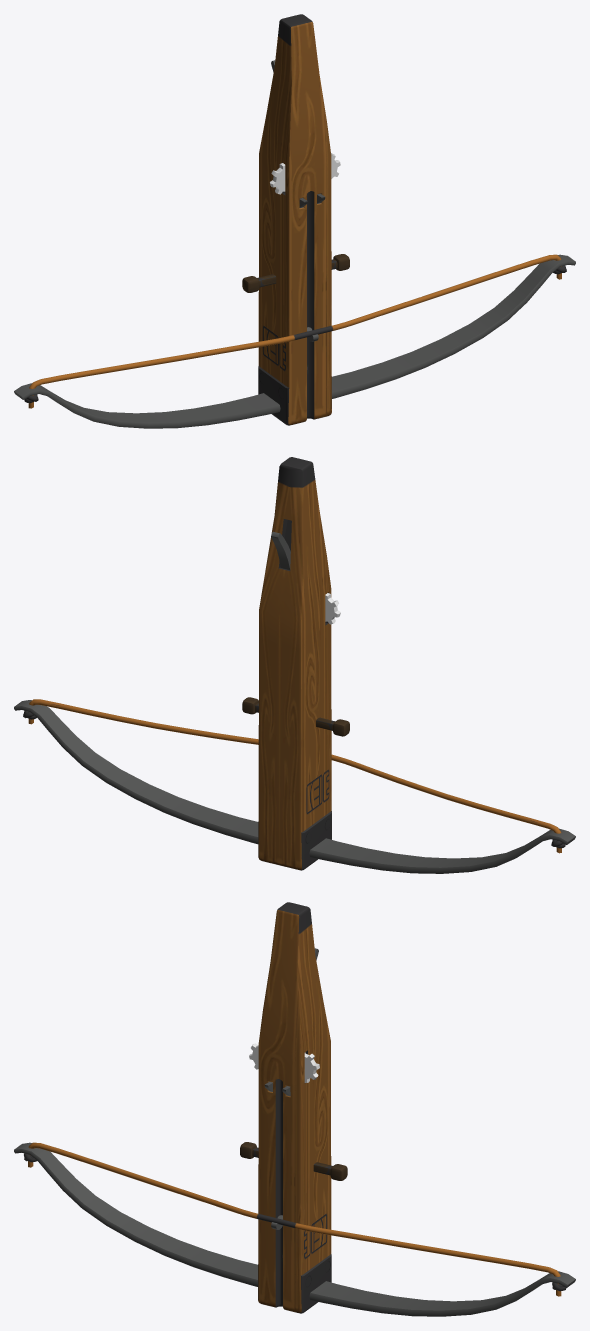
The model's file is crossbow.glb.
The picture shows the model from 3 angles, top to bottom: view 1: azimuth 30°, elevation 25°; view 2: azimuth 150°, elevation 25°; view 3: azimuth 330°, elevation 25°; orthographic projection.
Visible parts, largest first — view 1: Crossbow #1136, Crossbow_Reload; view 2: Crossbow #1136, Crossbow_Reload; view 3: Crossbow #1136, Crossbow_Reload.
Boxes of the visible parts, x1,y1,x2,y2 form: Crossbow #1136: (14,14,575,428); Crossbow_Reload: (242,254,349,292); Crossbow #1136: (14,457,575,873); Crossbow_Reload: (242,697,349,736); Crossbow #1136: (14,902,575,1316); Crossbow_Reload: (240,1142,347,1180).
Bounding box in the file's own units: 0.817 × 0.553 × 0.1062.
1 material, 1 textured.
